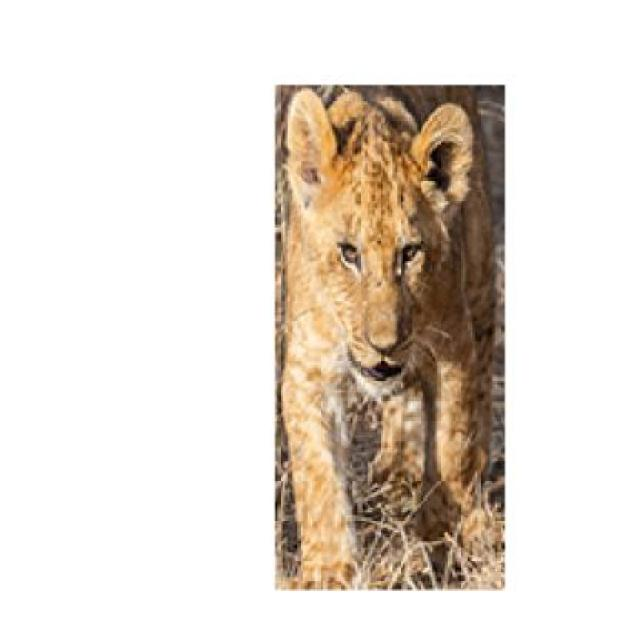Lion: (276, 83, 484, 622)
